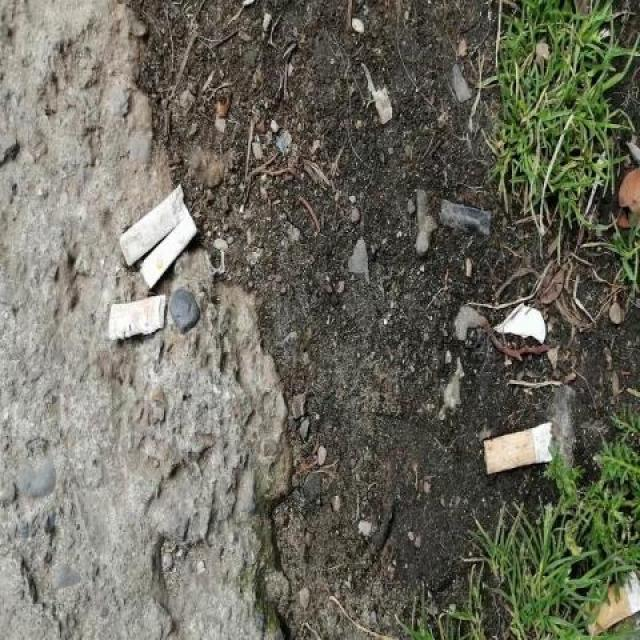non-organic waste: (115, 180, 185, 271), (137, 208, 199, 289), (572, 564, 640, 636), (480, 414, 555, 478), (105, 290, 170, 343)
